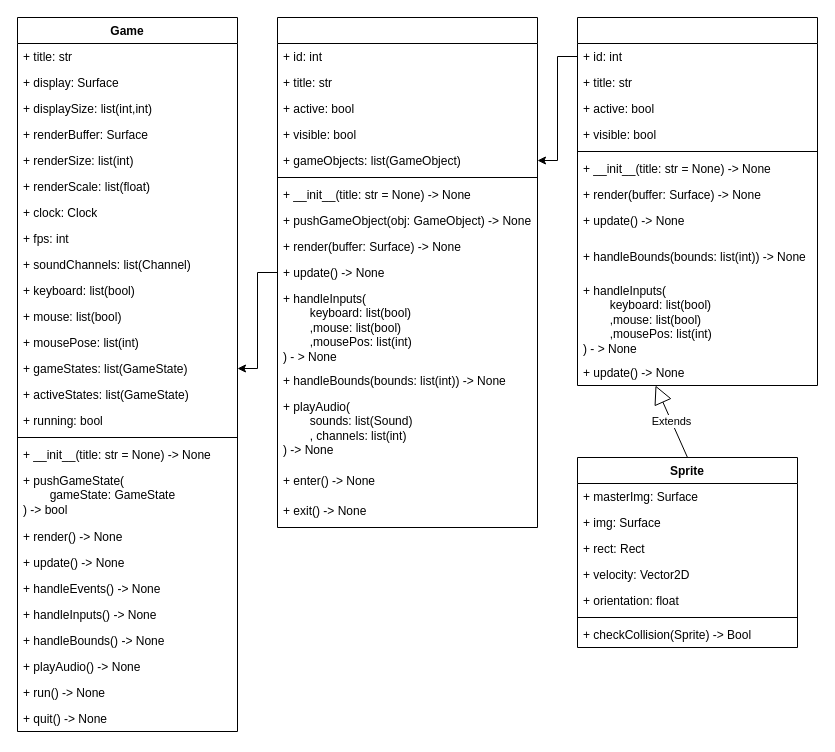
This 835x752 diagram has some shape labels left out. The box of each missing label's shape, as (x1, y1, x2, y2) in pixels:
GameObject: (576, 16, 818, 386)
GameState: (276, 16, 538, 528)
